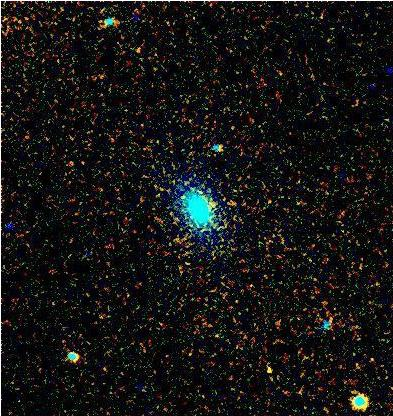star: (254, 354, 284, 384)
